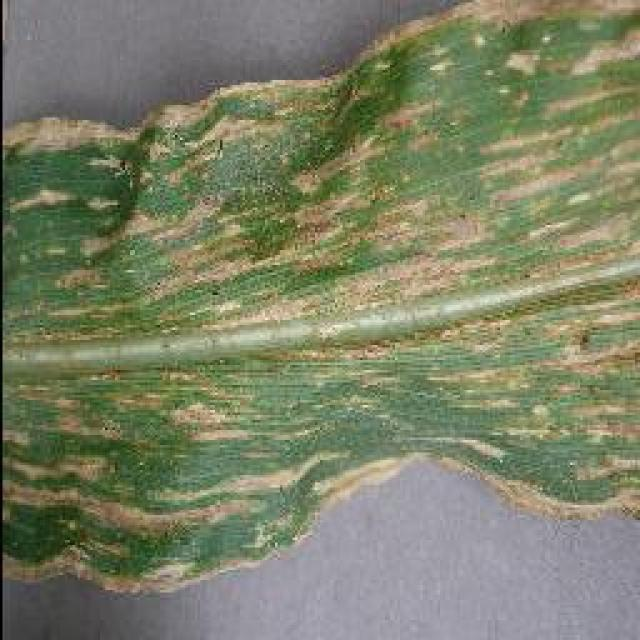Corn_Grey_Leaf_Spot: (0, 98, 640, 470)
